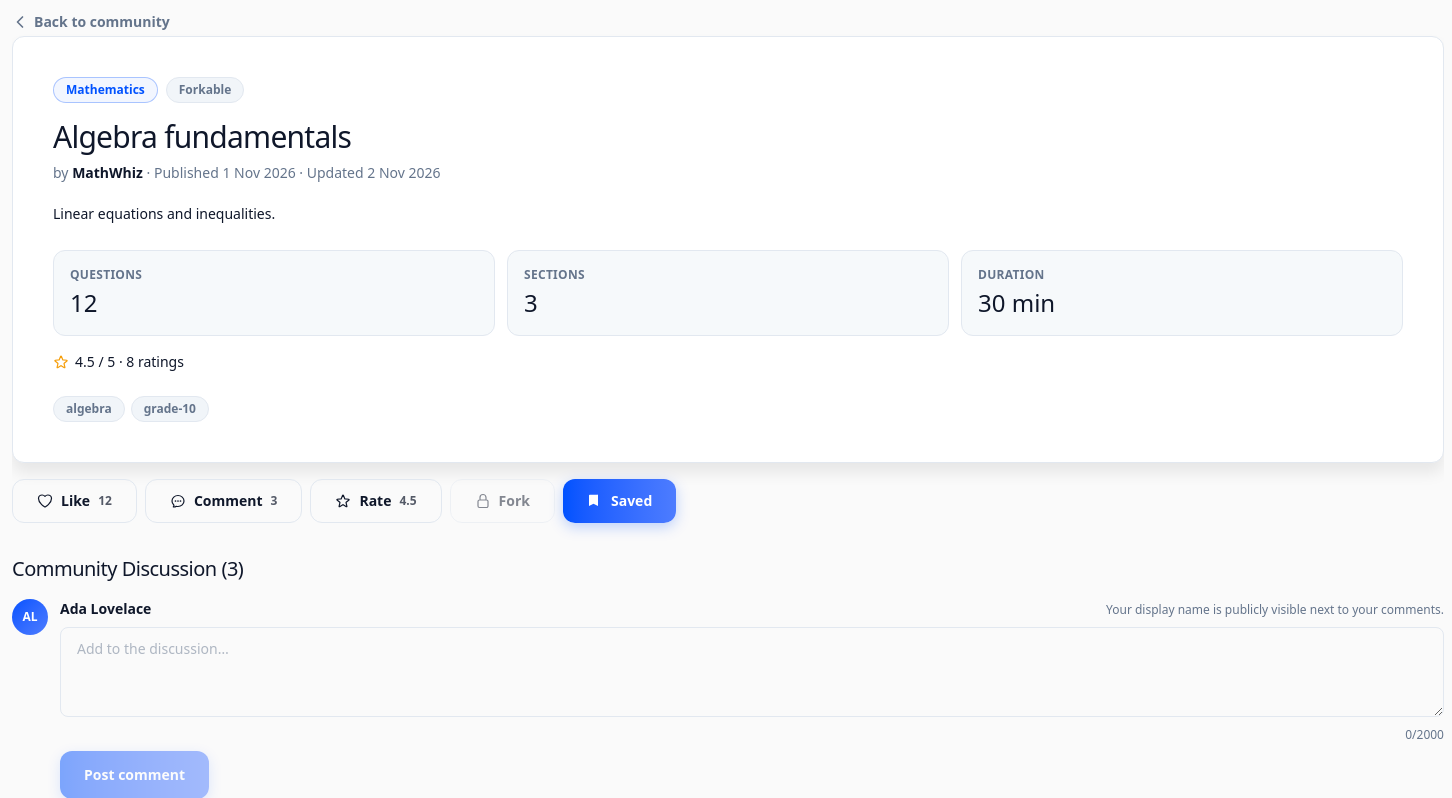
Test case: community publication detail page — save/unsave toggle (#46) › removes via DELETE with explicit loading and success notice
The image size is (1452, 798).
Click the button "Saved" at (620, 501), box [563, 479, 676, 523]
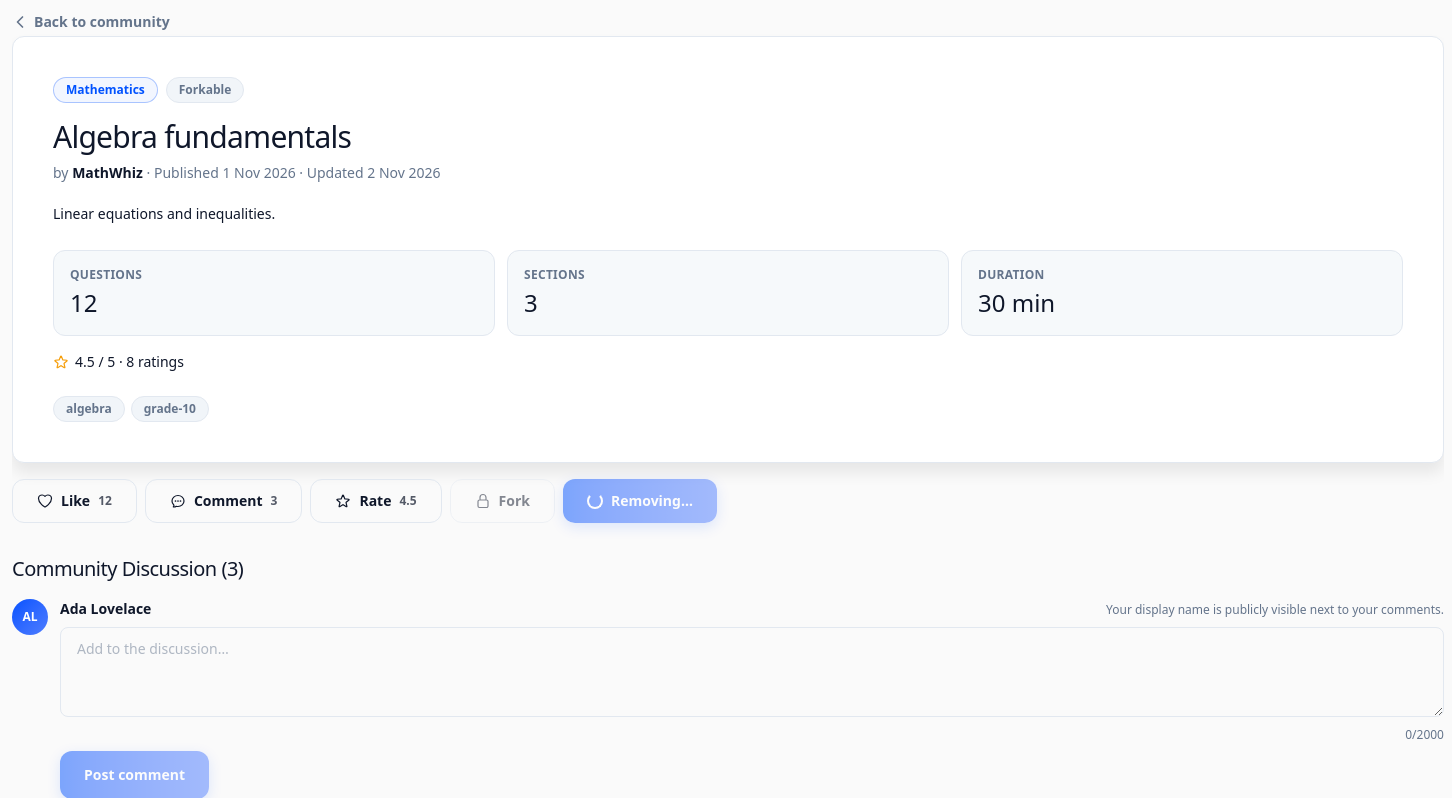
expect the button "Removing…" is disabled: met
Click the button "Removing…" at (640, 501), box [563, 479, 717, 523]
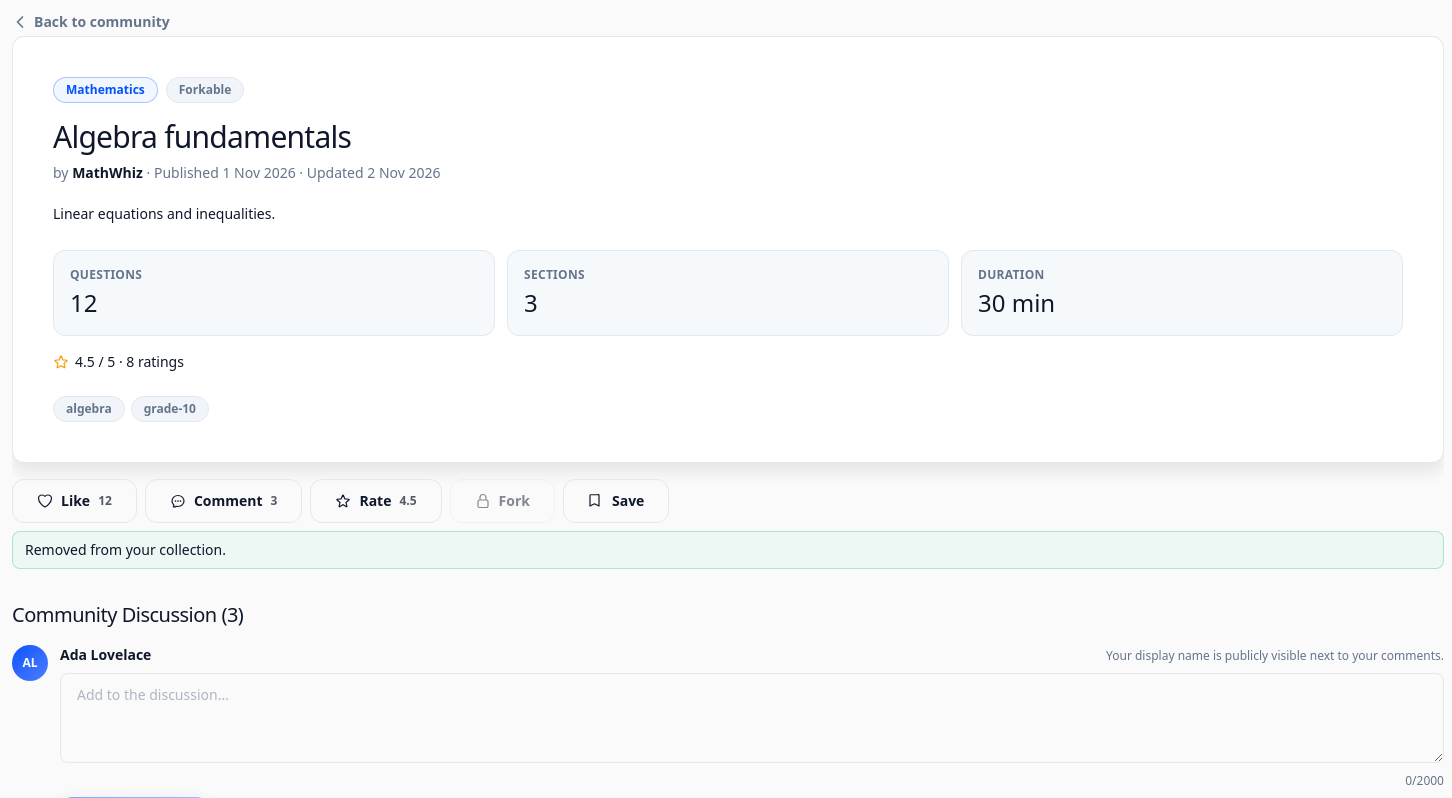
expect the text "Removed from your collection." is shown: met, box [12, 531, 1444, 569]
